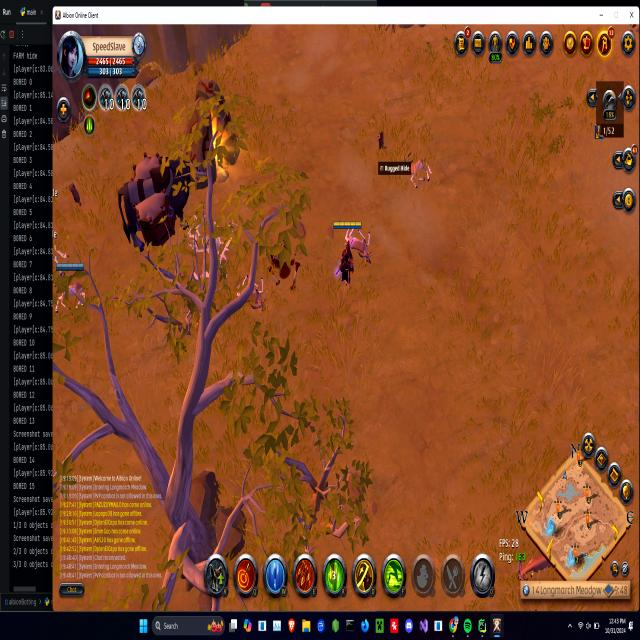mob: (236, 272, 267, 314), (53, 273, 87, 309), (351, 223, 372, 266), (408, 152, 432, 188)
ore: (516, 551, 550, 584)
red: (333, 218, 360, 286), (54, 258, 86, 275)
